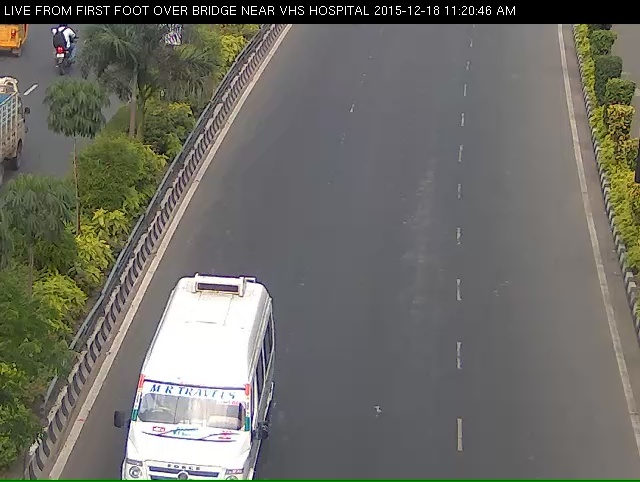Bus: (106, 307, 262, 480)
